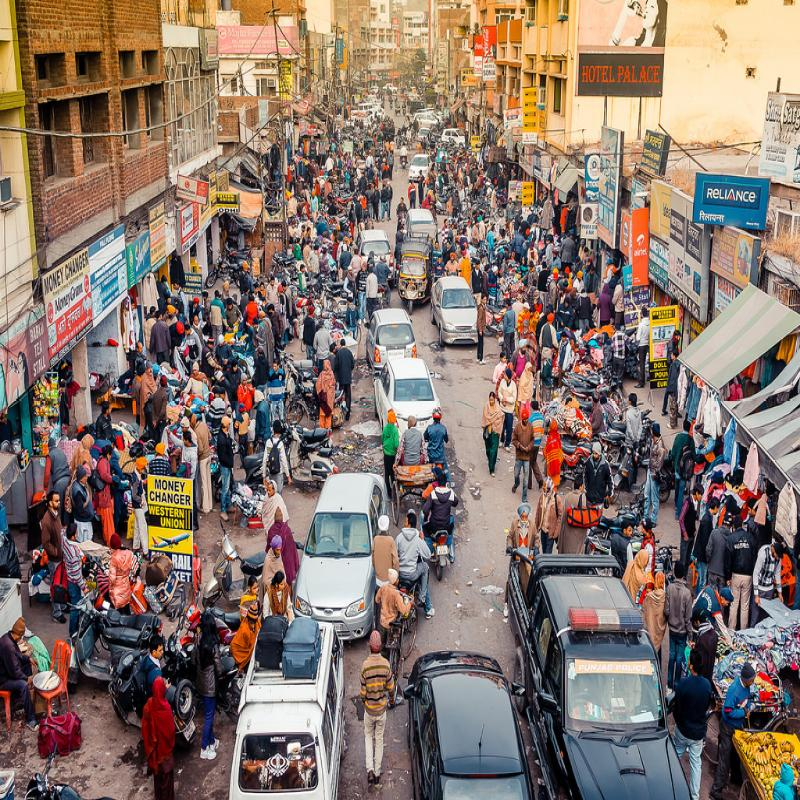AmbulanceSiren: (560, 598, 650, 644)
car: (221, 587, 351, 800), (392, 634, 520, 800), (295, 463, 392, 665), (376, 352, 449, 466)
